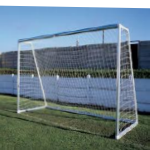goals: (15, 21, 140, 140)
